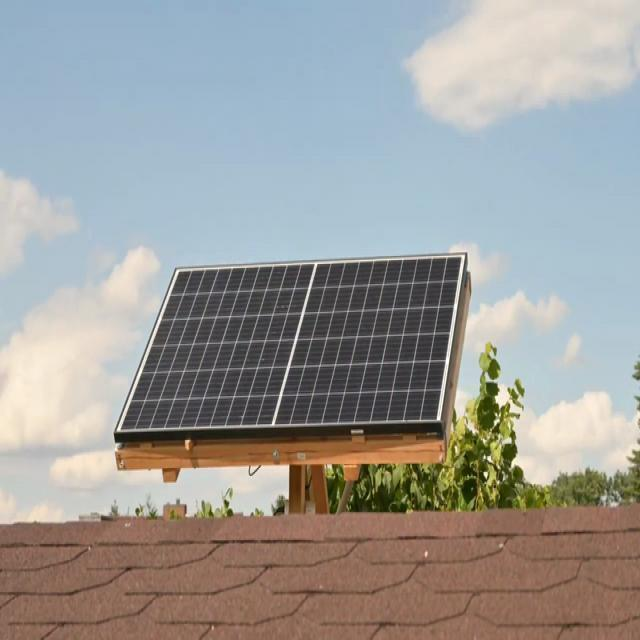Normal Solar Panel: (116, 253, 467, 441)
